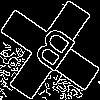B: (25, 25, 79, 81)
